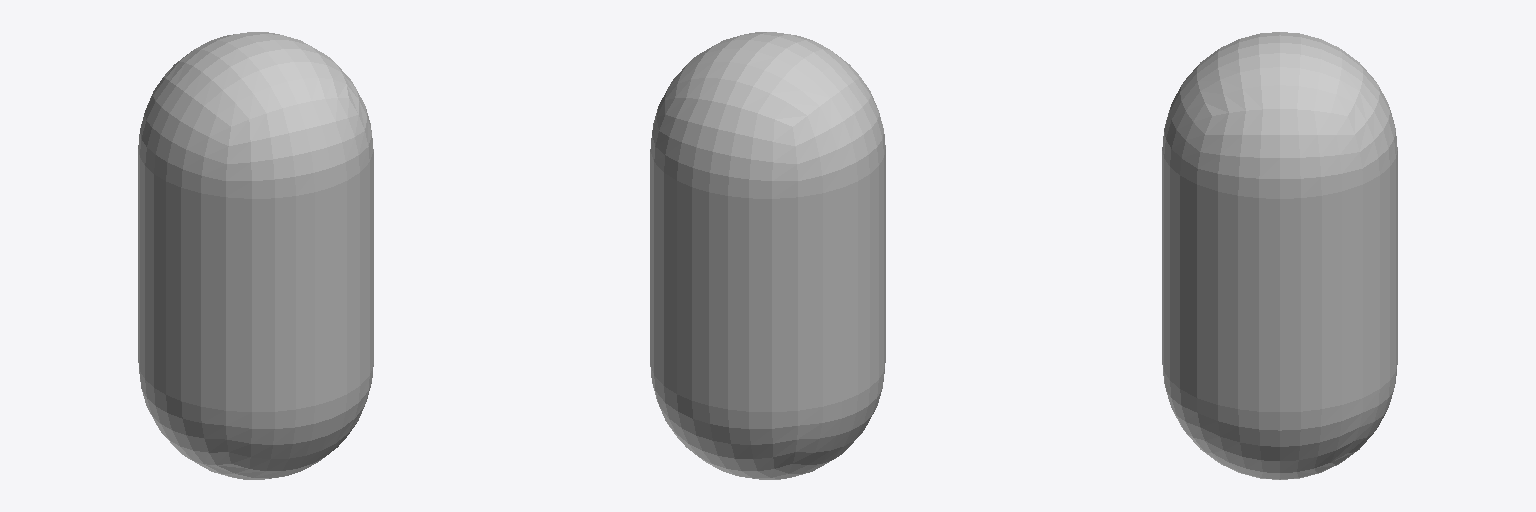
The picture shows the model from 3 angles: view 1: azimuth 30°, elevation 25°; view 2: azimuth 150°, elevation 25°; view 3: azimuth 270°, elevation 25°; orthographic projection.
Parts seen in each view (by area): view 1: Roundcube; view 2: Roundcube; view 3: Roundcube.
Boxes of the visible parts, x1,y1,x2,y2 form: Roundcube: [138, 32, 373, 479]; Roundcube: [650, 32, 885, 479]; Roundcube: [1162, 32, 1397, 479].
Bounding box in the file's own units: 1 × 2 × 1.